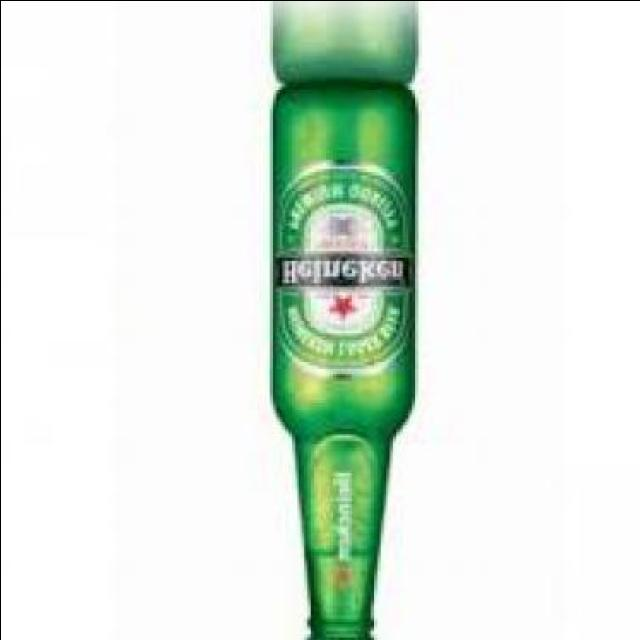kaca: (265, 79, 417, 640)
